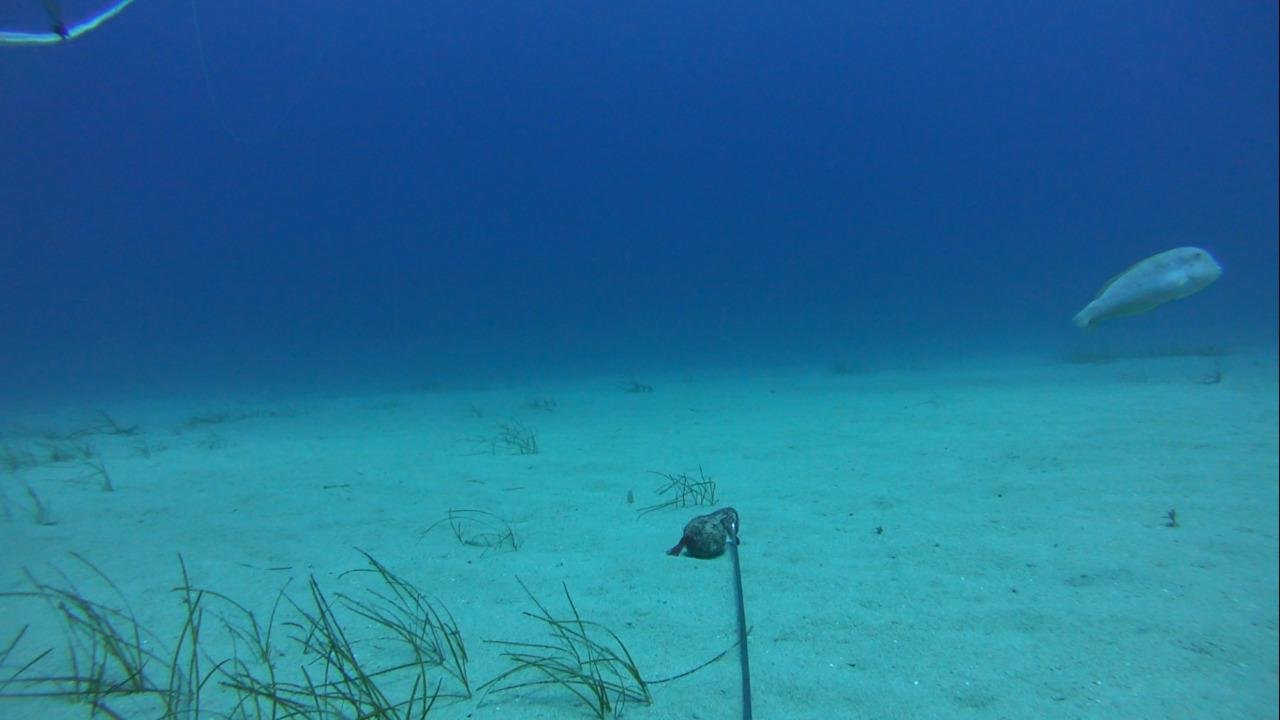raor: (1064, 240, 1230, 328)
